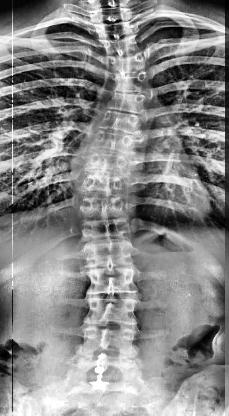Vertebrae: (83, 264, 140, 298), (80, 324, 138, 356), (81, 238, 137, 270), (83, 296, 141, 326), (76, 169, 132, 199), (78, 214, 132, 244), (74, 195, 134, 221), (81, 148, 133, 176), (94, 109, 148, 135), (87, 130, 141, 156), (108, 68, 158, 92), (104, 88, 151, 113), (105, 49, 148, 75), (98, 34, 142, 56)
